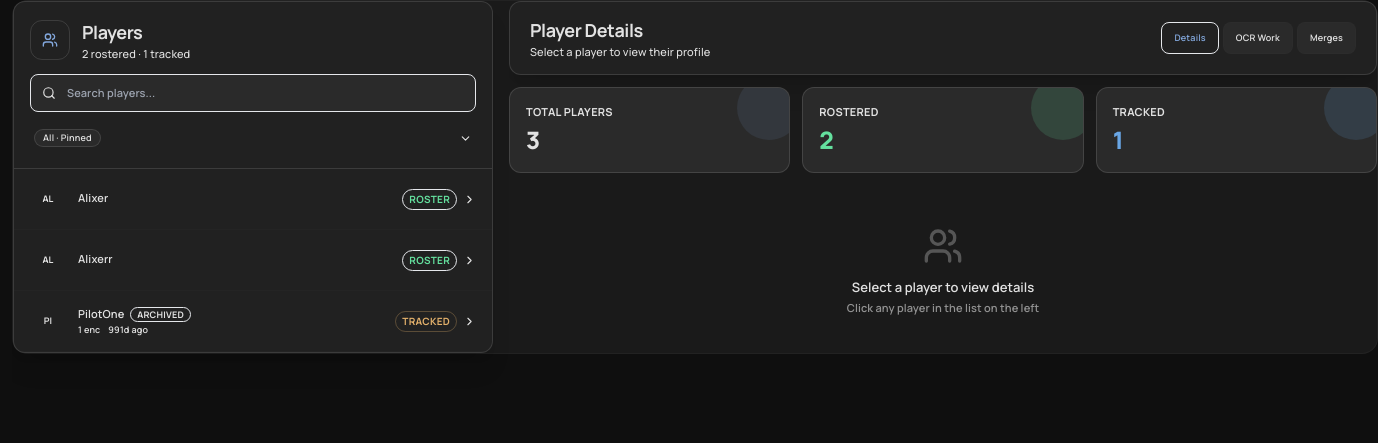
Scenario: PlayerHub › renders an Apply button for pending high-confidence auto-merge groups
Click the button "Merges" at (1326, 38), box [1297,22,1356,54]
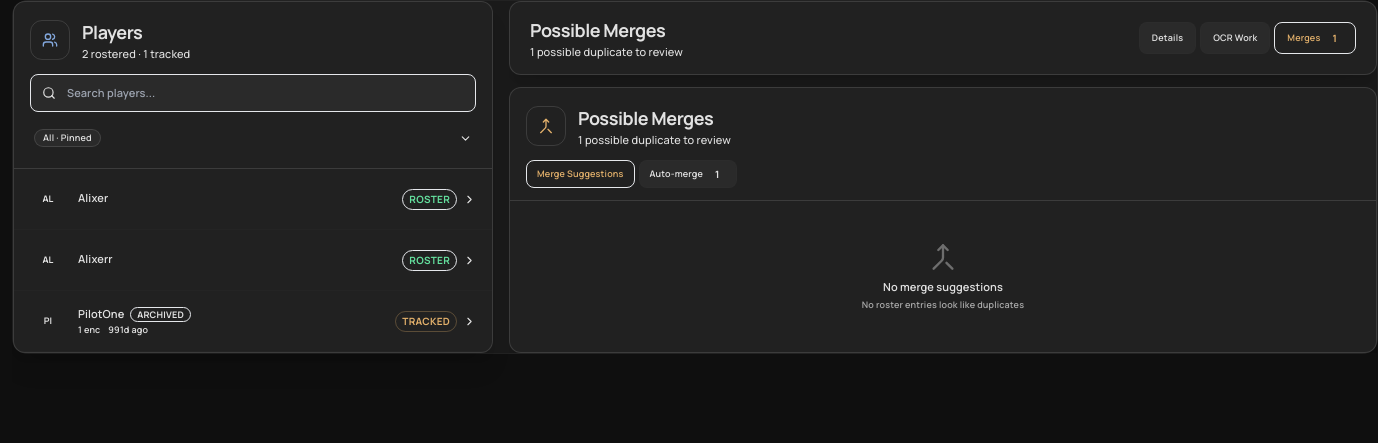
Click the button "Auto-merge 1" at (688, 174), box [638,160,737,188]
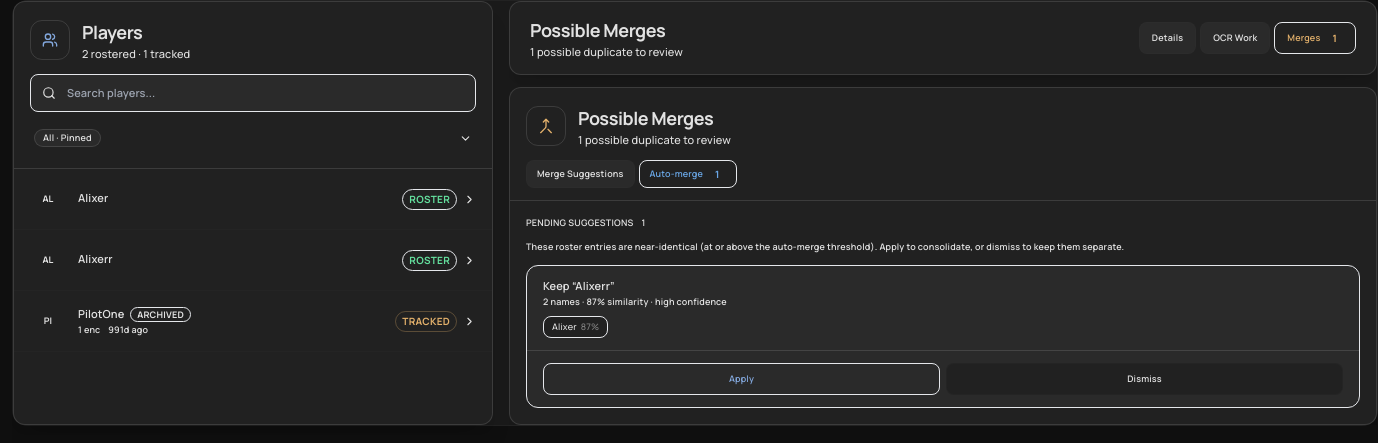
Result: the button with aria-label "apply merge into alixerr" reads "Apply" at [543,363,940,395]
